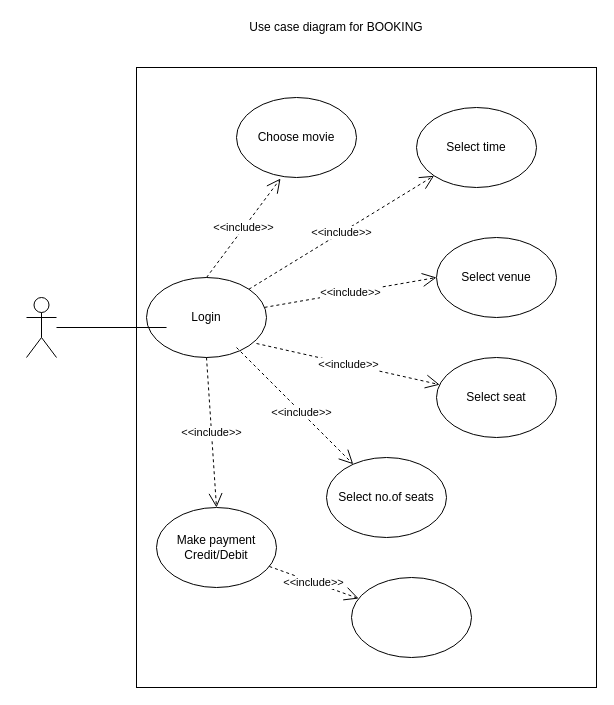
Some shapes in this 614 by 705 pixel diagram are drawn without their labels. Here are the shapes that lost their labels. From the top down, the centre of each, then its label:
At point 41,327: "customer".
At point 411,617: "Confirm booking".
